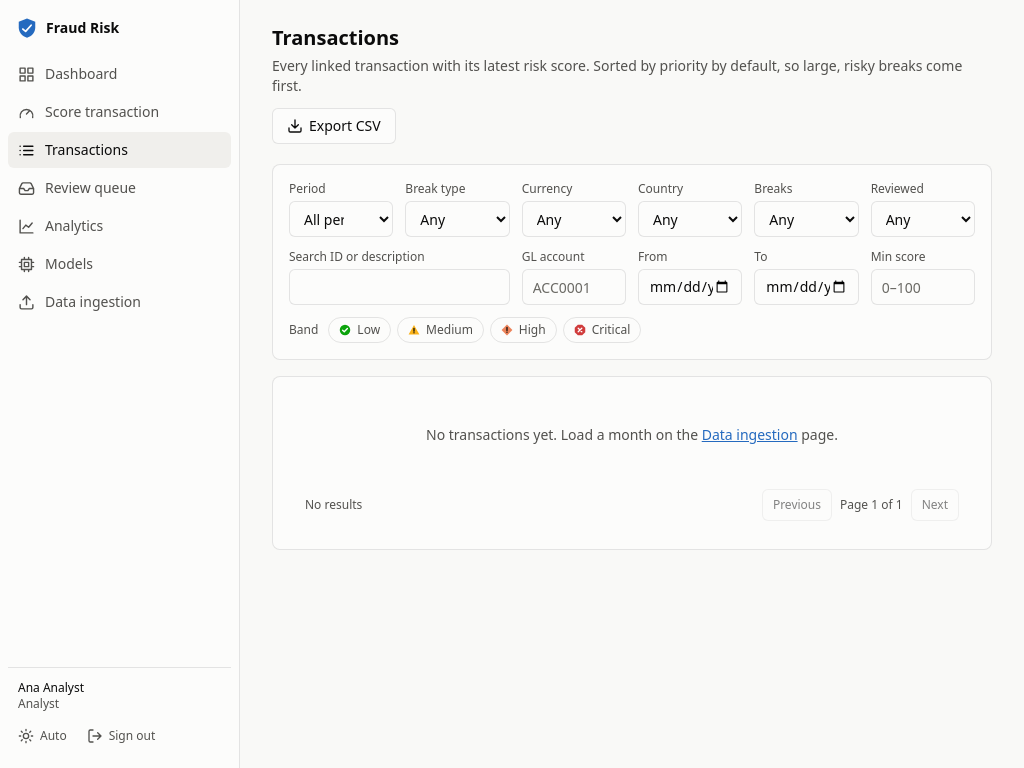
Test: signing out asks the API to drop the cookie
Click the button "Sign out" at (121, 736), box [79,720,163,752]
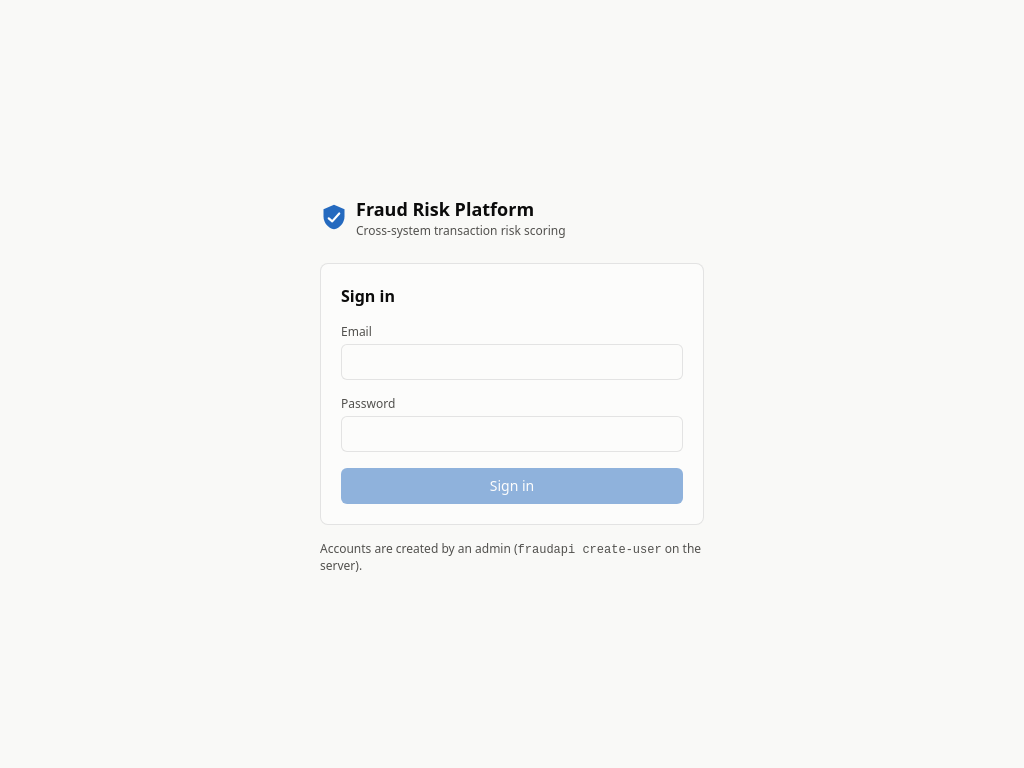
Expected: the heading "Sign in" is shown, [341,284,395,306]
